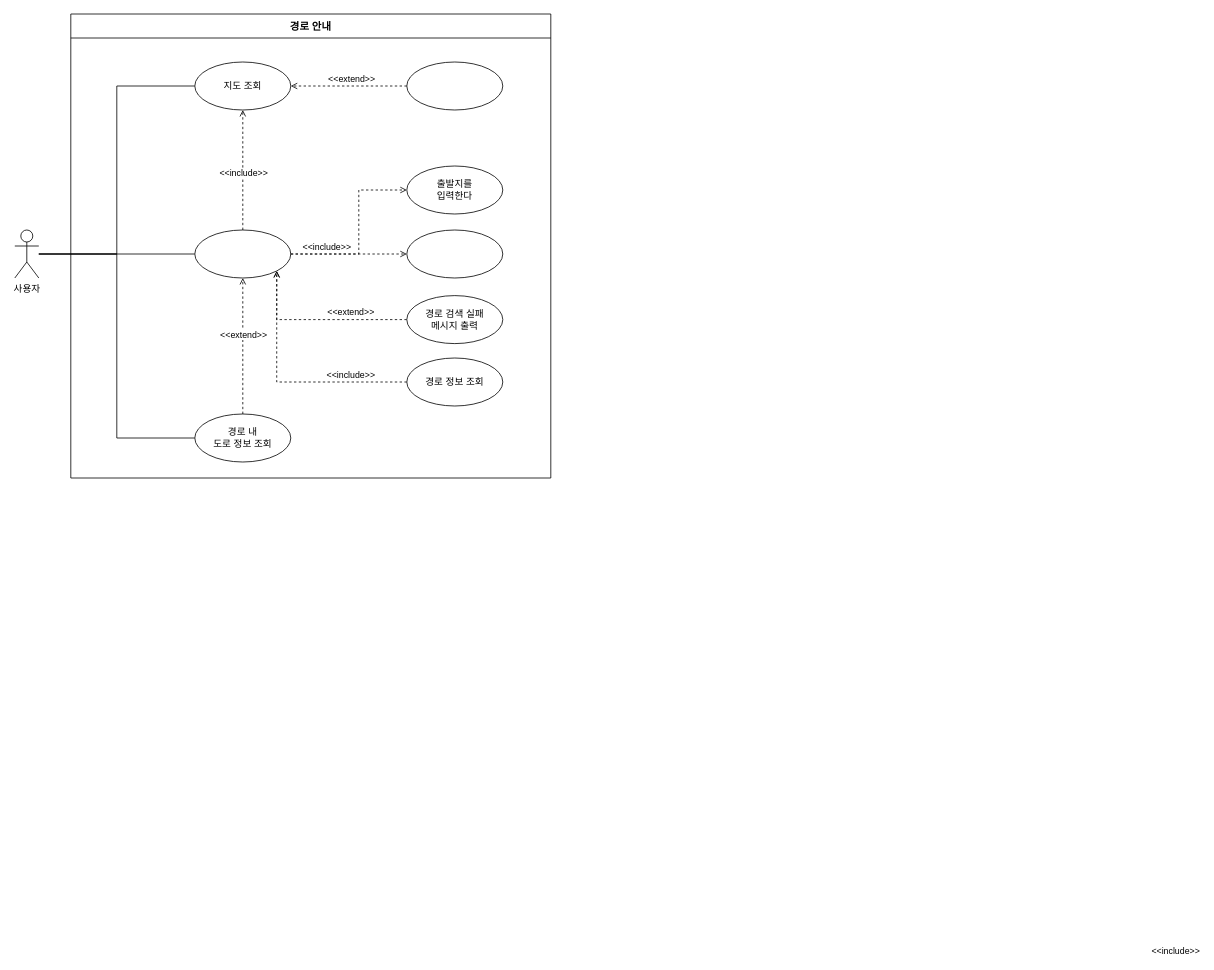
Image size: 1214x970. Some labels were removed from this diagram. The shapes that lost their labels are listed below. From the top down, each one's centre as x and y in pixels, then its label:
At [454,85]: "지도 조회 실패 메시지 출력".
At [242,253]: "최적 경로 검색".
At [454,253]: "목적지를 입력한다".
